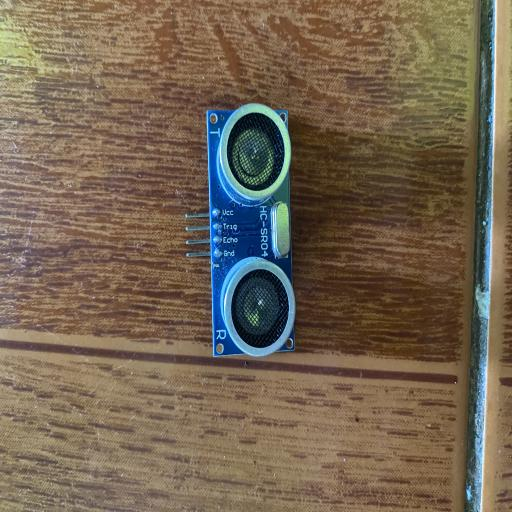Ultrasonic Sensor: (185, 103, 296, 357)
